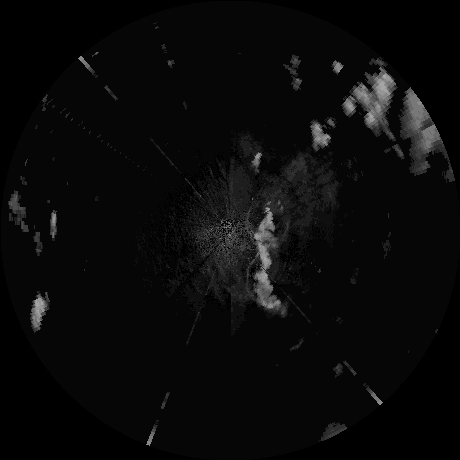frontgust: (246, 251, 258, 303), (244, 202, 256, 241)
